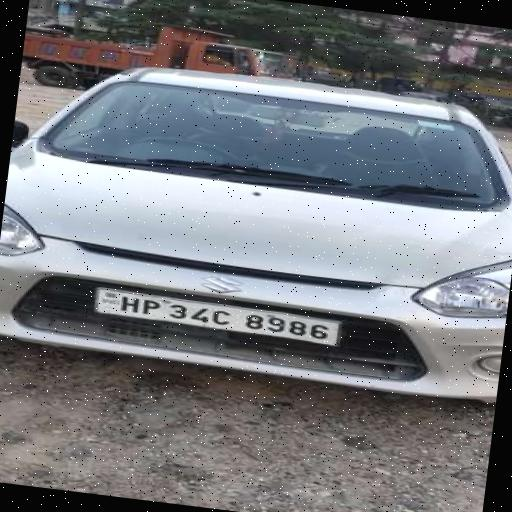license_plate`: (92, 287, 340, 344)
